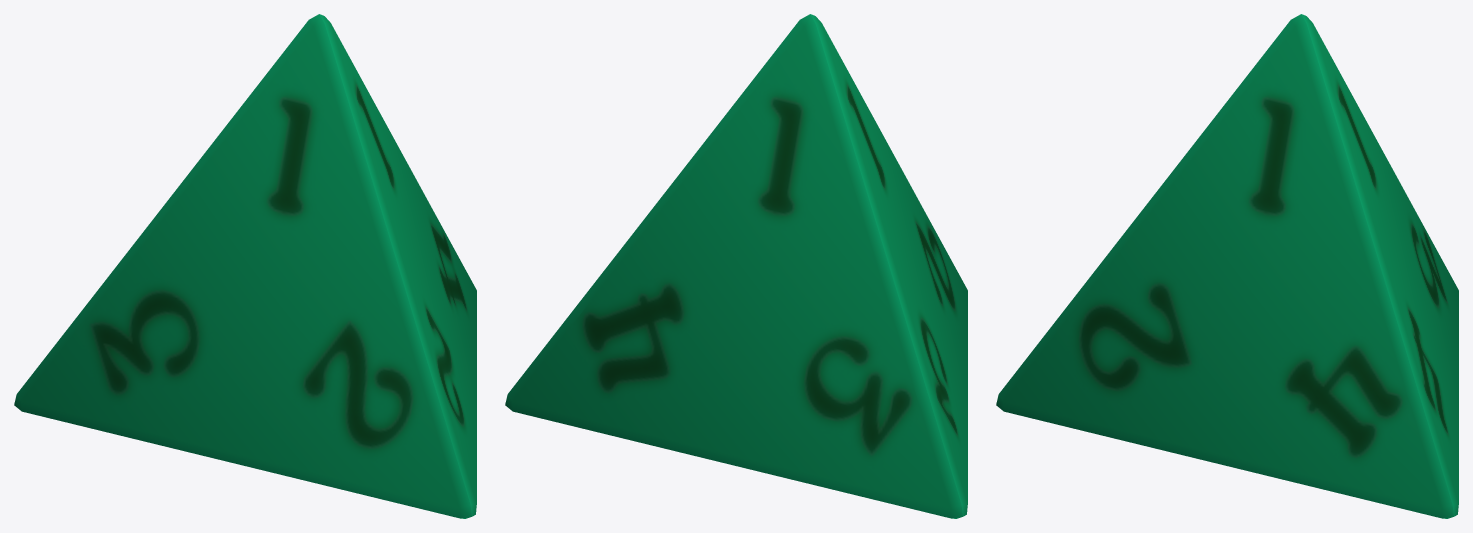
File: D4_green.glb
3 views of the same model, side by side, from view 1: azimuth 30°, elevation 25°; view 2: azimuth 150°, elevation 25°; view 3: azimuth 270°, elevation 25° (orthographic).
Visible parts, largest first — view 1: D4_green; view 2: D4_green; view 3: D4_green.
Part boxes in pixels (x1=…): D4_green: x1=14, y1=14, x2=476, y2=518; D4_green: x1=505, y1=14, x2=967, y2=518; D4_green: x1=996, y1=14, x2=1458, y2=518.
Bounding box in the file's own units: 0.9591 × 0.7969 × 0.8396.
Materials: 1 (1 with a texture image).
